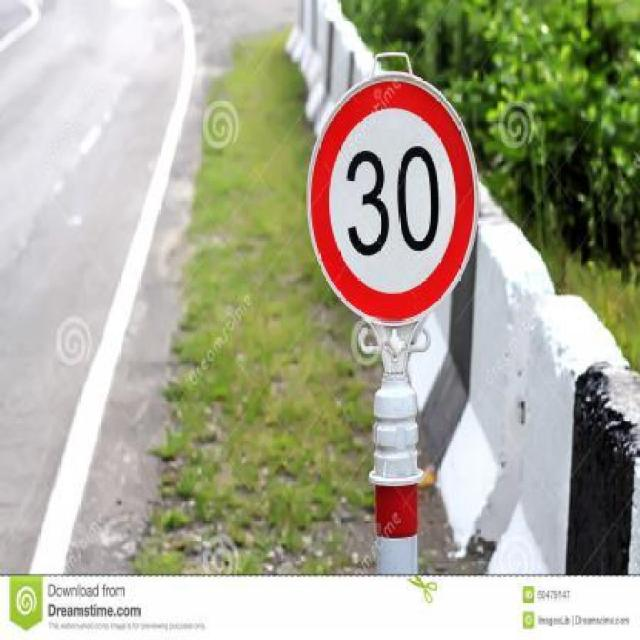Ograniczenie predkosci do 30: (307, 69, 478, 322)
